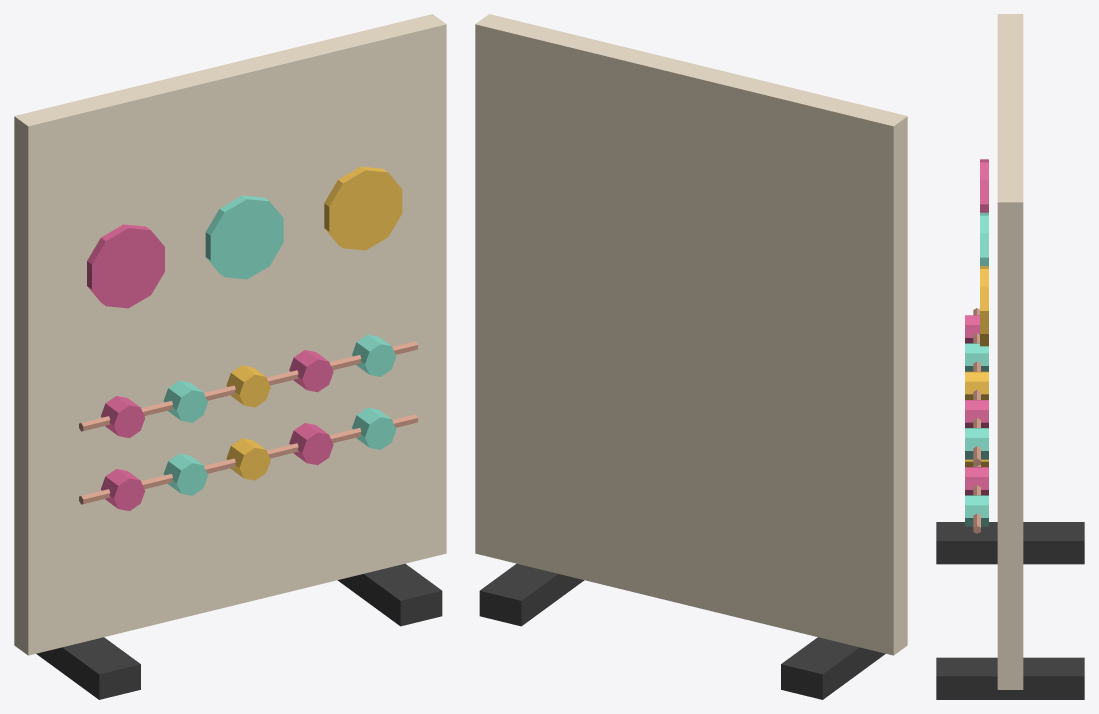
The picture shows the model from 3 angles, left to right: view 1: azimuth 30°, elevation 25°; view 2: azimuth 150°, elevation 25°; view 3: azimuth 270°, elevation 25°; orthographic projection. The views are drawn at different scales.
Visible parts, largest first — view 1: Panel, Learning circular shape.002, Learning circular shape.001, Learning circular shape, Panel foot.001, Panel foot, Counting rail.001, Counting rail, Counting bead.002, Counting bead.004, Counting bead.007, Counting bead.009 (+6 smaller); view 2: Panel, Panel foot.001, Panel foot; view 3: Panel, Panel foot.001, Panel foot, Learning circular shape.002, Counting bead.004, Counting bead.009, Counting bead.007, Counting bead.003, Counting bead.008, Counting bead.006, Counting rail.001, Learning circular shape (+2 smaller).
Boxes of the visible parts, box(x1,y1,x2,y2) form: Panel: box(14, 14, 446, 655); Learning circular shape.002: box(324, 166, 402, 250); Learning circular shape.001: box(205, 195, 283, 279); Learning circular shape: box(87, 224, 164, 308); Panel foot.001: box(337, 563, 442, 626); Panel foot: box(36, 637, 140, 699); Counting rail.001: box(79, 341, 417, 431); Counting rail: box(79, 414, 417, 504); Counting bead.002: box(226, 438, 270, 480); Counting bead.004: box(352, 407, 396, 449); Counting bead.007: box(226, 365, 270, 407); Counting bead.009: box(352, 334, 396, 376); Panel: box(475, 14, 907, 655); Panel foot.001: box(479, 563, 584, 626); Panel foot: box(781, 637, 885, 699); Panel: box(997, 14, 1023, 689); Panel foot.001: box(936, 657, 1084, 699); Panel foot: box(936, 522, 1084, 564); Learning circular shape.002: box(980, 266, 988, 346); Counting bead.004: box(965, 495, 988, 526); Counting bead.009: box(965, 428, 988, 459); Counting bead.007: box(965, 371, 988, 399); Counting bead.003: box(965, 467, 988, 495); Counting bead.008: box(965, 400, 988, 427); Counting bead.006: box(965, 343, 988, 371); Counting rail.001: box(973, 308, 980, 466); Learning circular shape: box(980, 159, 988, 212).
Bounding box in the file's own units: 120 × 153 × 40.
